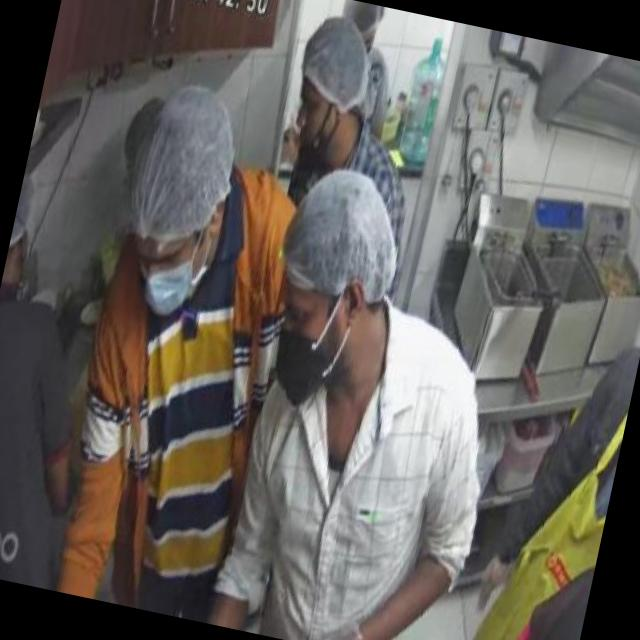hairnet: (112, 80, 246, 245), (280, 163, 414, 308), (294, 8, 380, 121), (8, 172, 45, 255)
